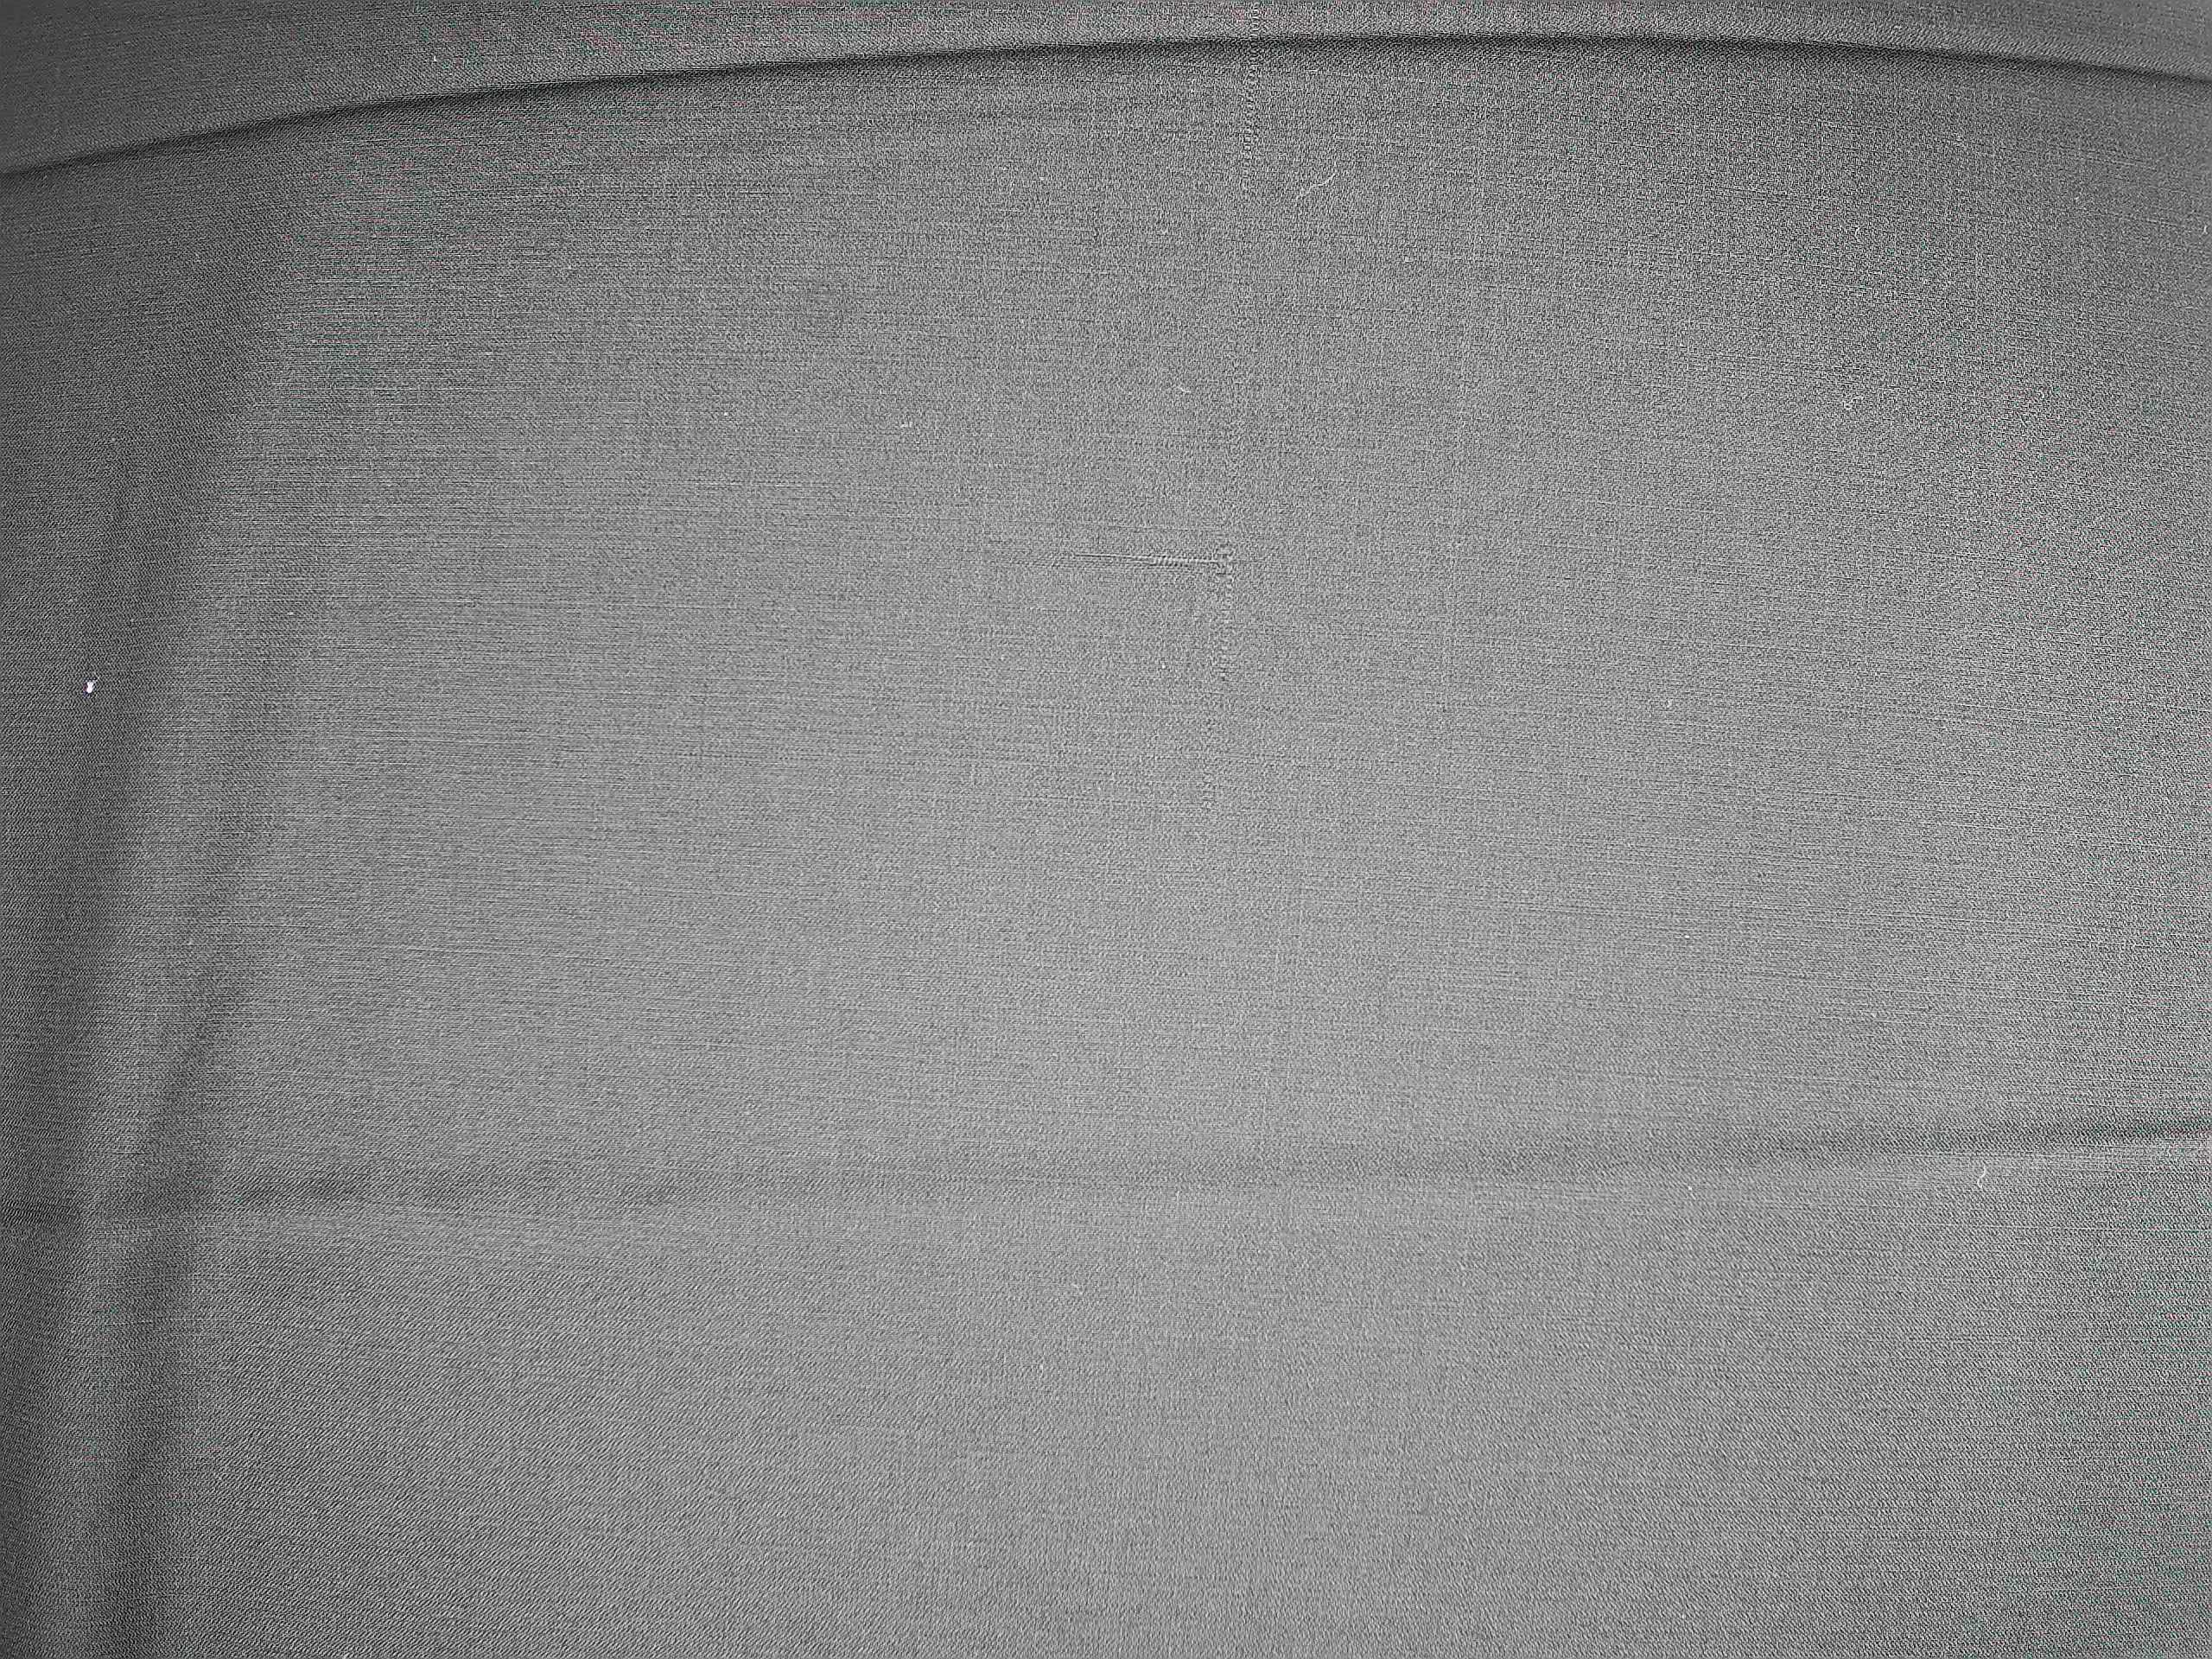hanging-warp: (1115, 535, 1242, 840)
